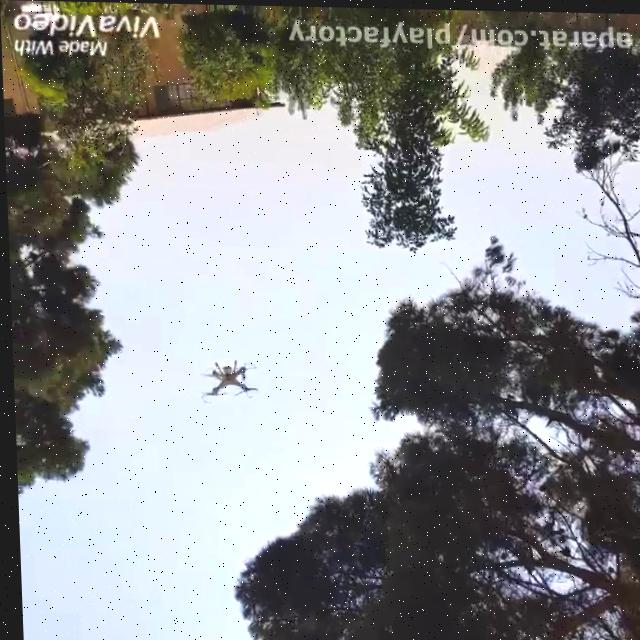drone: (192, 354, 262, 411)
